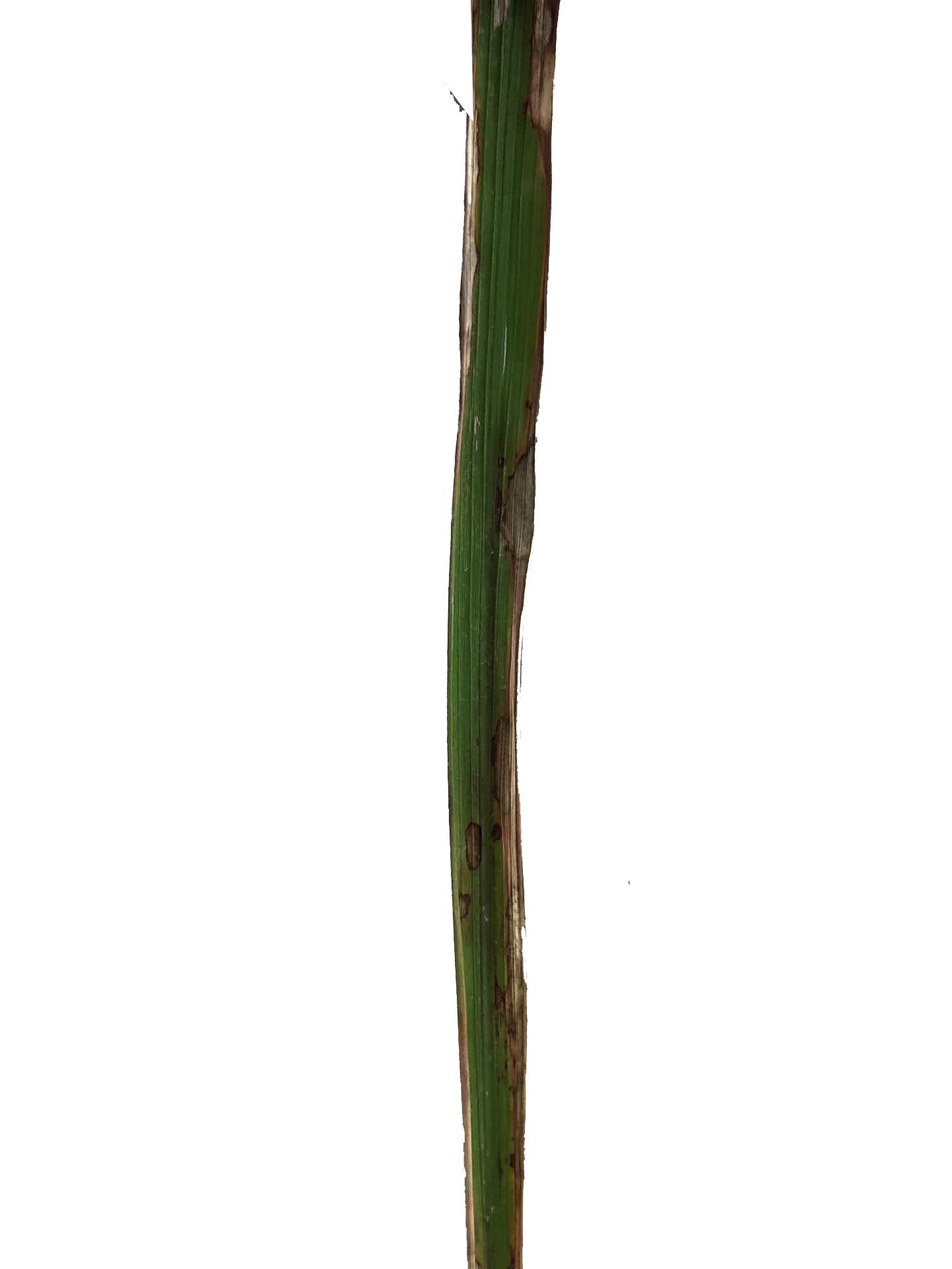Blight: (450, 753, 532, 1074), (479, 406, 512, 734), (502, 0, 562, 145), (466, 96, 496, 367)
